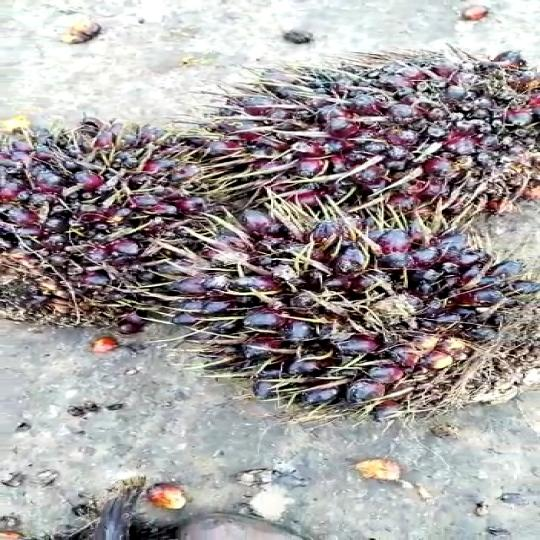kurang masak: (178, 216, 522, 433), (173, 42, 540, 219), (0, 113, 209, 324)
